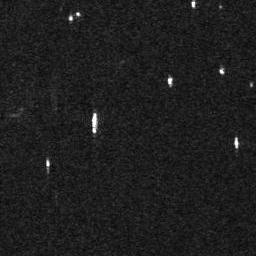ship: (90, 110, 100, 134), (234, 135, 240, 149), (167, 76, 174, 87), (189, 1, 198, 8), (45, 158, 51, 167), (219, 68, 224, 74)
